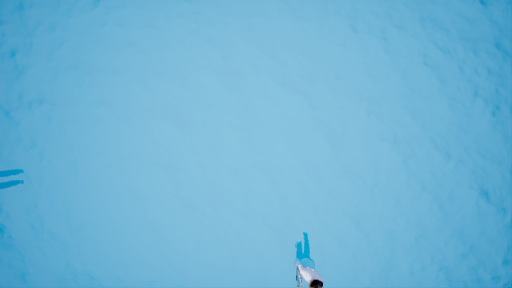person: (283, 228, 339, 288)
